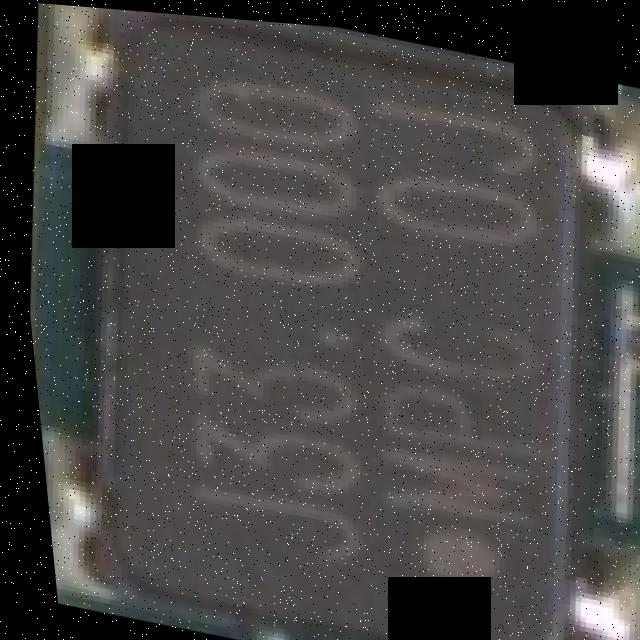clock Q1: (33, 2, 640, 640)
